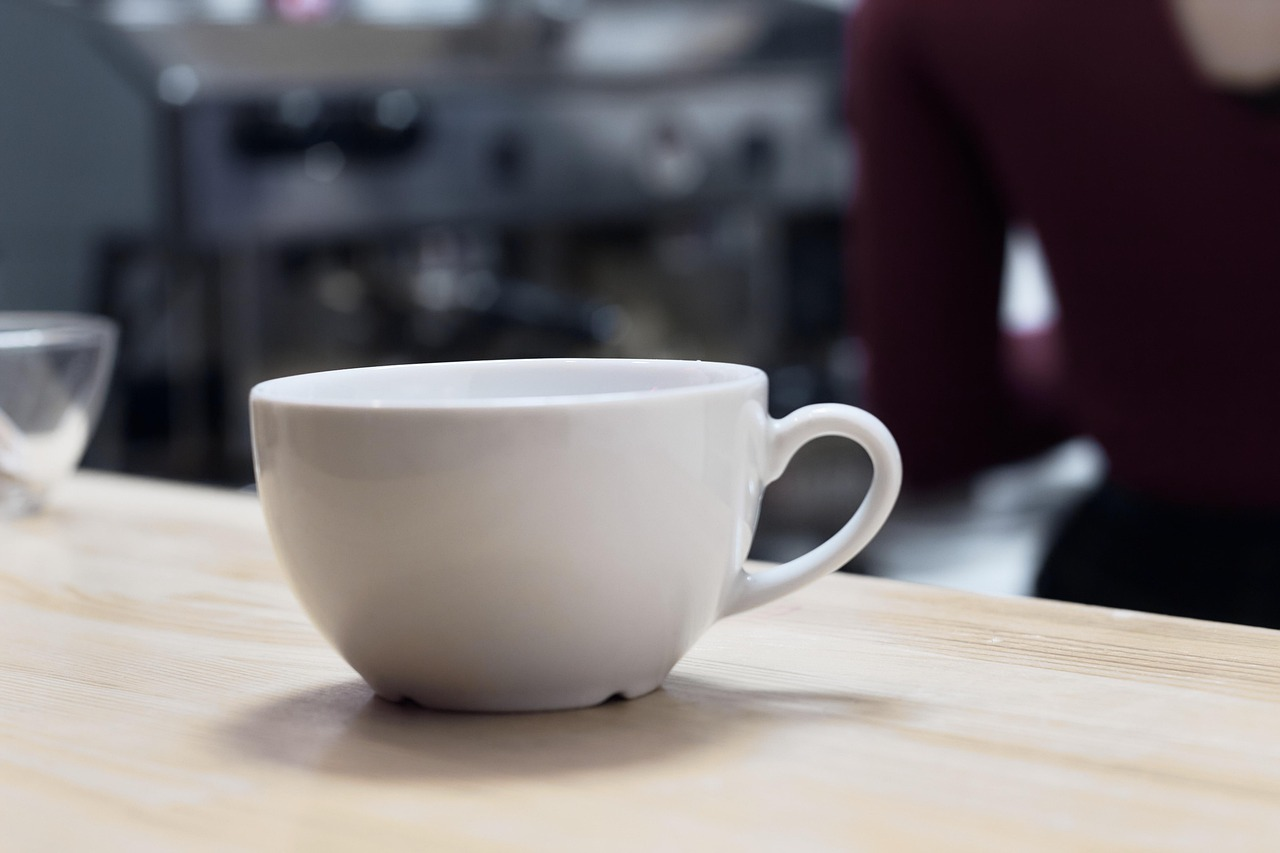mug: (236, 340, 907, 733)
